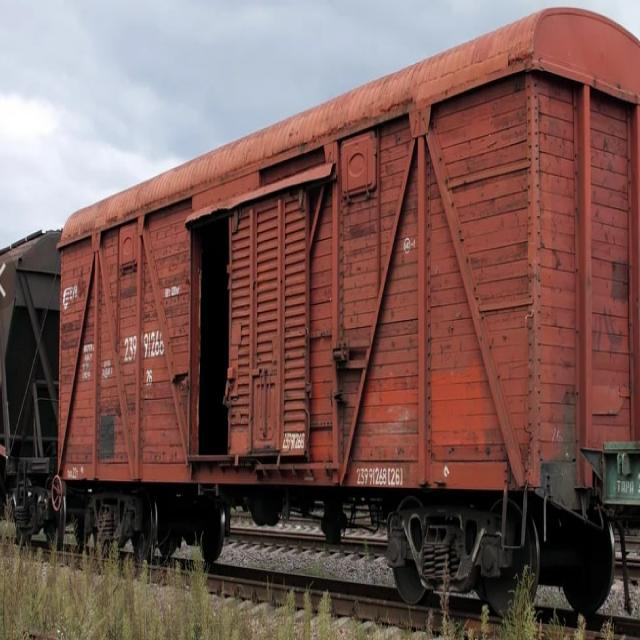boxcar: (52, 0, 640, 636)
hopper: (0, 209, 60, 555)
